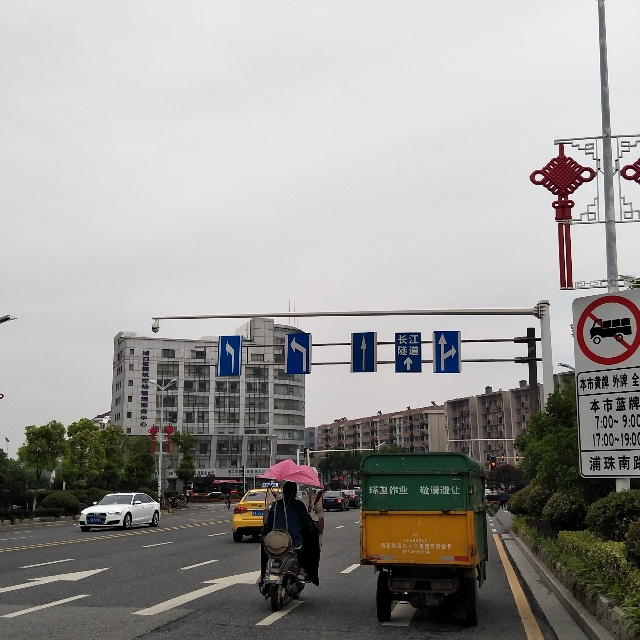left: (284, 331, 314, 376), (212, 335, 243, 378)
straight: (348, 330, 376, 376)
